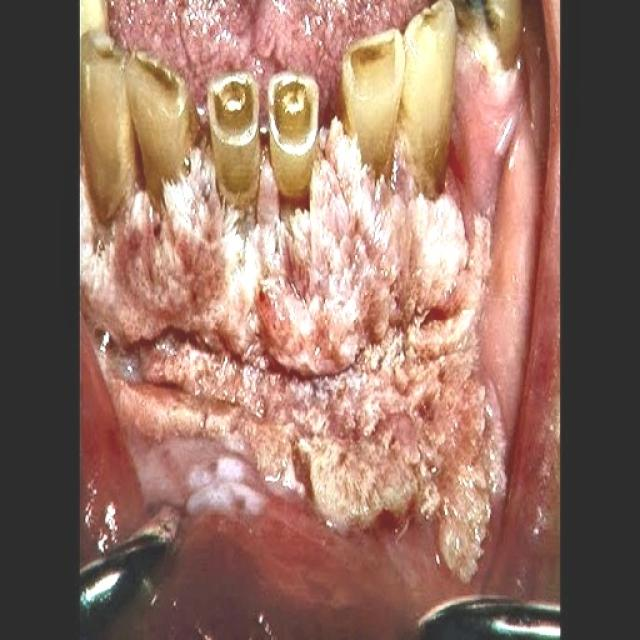cancer-detection: (77, 110, 508, 589)
processing_area: (78, 24, 568, 639)
